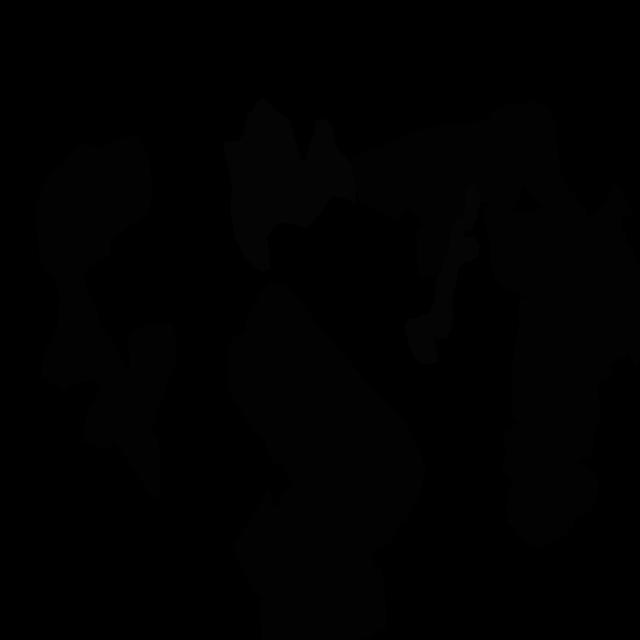cardboard: (226, 281, 427, 561), (35, 135, 152, 448), (350, 120, 529, 278), (512, 228, 640, 423), (232, 487, 388, 640), (484, 182, 633, 297), (501, 388, 599, 548), (488, 100, 589, 222), (114, 321, 176, 499)
soft_plastic: (222, 98, 356, 272), (404, 182, 481, 365)
